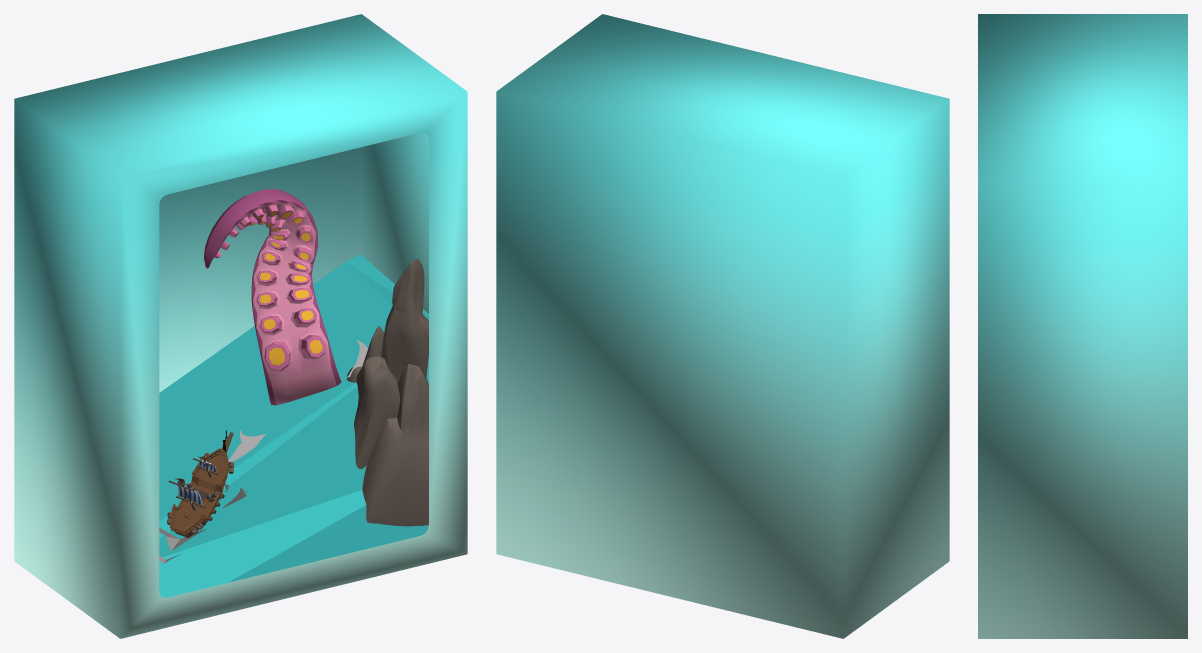
File: 13_SeaMonster.gltf
The picture shows the model from 3 angles, left to right: view 1: azimuth 30°, elevation 25°; view 2: azimuth 150°, elevation 25°; view 3: azimuth 270°, elevation 25°; orthographic projection.
Visible parts, largest first — view 1: 13_SeaMonster_bg, 13_SeaMonster; view 2: 13_SeaMonster_bg; view 3: 13_SeaMonster_bg.
Part boxes in pixels (bbox=[...]): 13_SeaMonster_bg: bbox=[14, 14, 467, 638]; 13_SeaMonster: bbox=[159, 189, 428, 597]; 13_SeaMonster_bg: bbox=[496, 14, 949, 638]; 13_SeaMonster_bg: bbox=[978, 14, 1187, 638].
Bounding box in the file's own units: 2.76 × 3.51 × 1.46.
2 materials, 2 textured.
